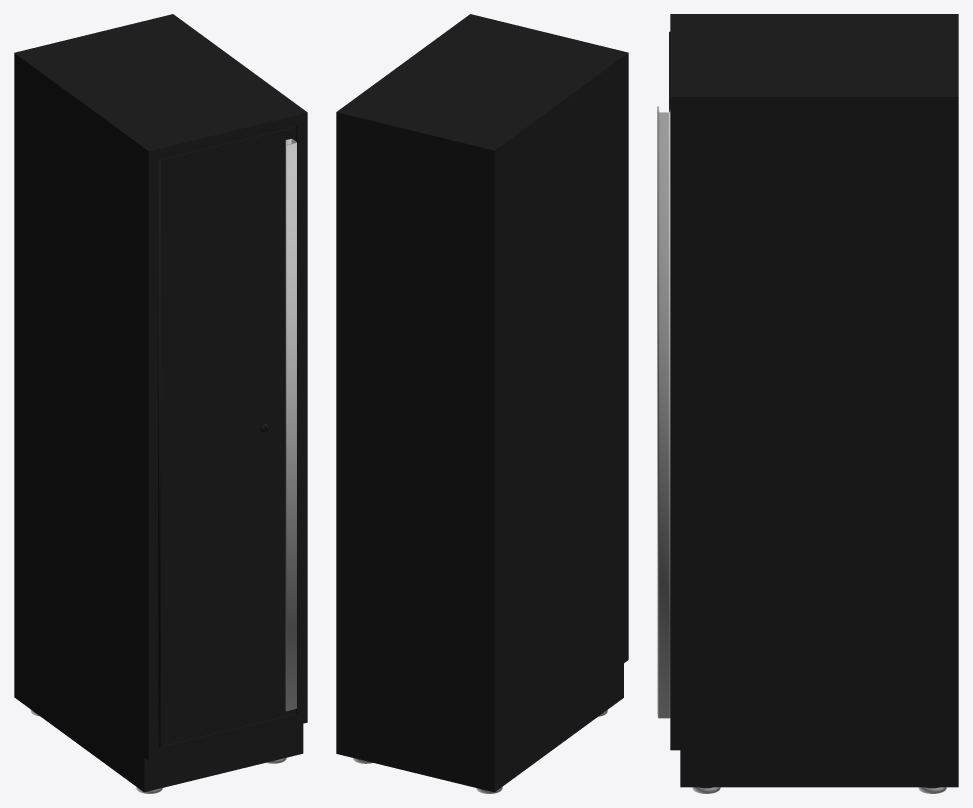
The model's file is pantryRightDoor.glb.
The picture shows the model from 3 angles, left to right: view 1: azimuth 30°, elevation 25°; view 2: azimuth 150°, elevation 25°; view 3: azimuth 270°, elevation 25°; orthographic projection. The views are drawn at different scales.
Visible parts, largest first — view 1: shellFp, doors, handlesFP, hinge; view 2: shellFp; view 3: shellFp, handlesFP.
Part boxes in pixels (x1=…): shellFp: x1=14, y1=14, x2=307, y2=792; doors: x1=159, y1=126, x2=296, y2=746; handlesFP: x1=285, y1=138, x2=296, y2=711; hinge: x1=158, y1=160, x2=160, y2=747; shellFp: x1=336, y1=14, x2=628, y2=792; shellFp: x1=670, y1=14, x2=958, y2=788; handlesFP: x1=657, y1=106, x2=670, y2=718.
Size of the model in its own units: 0.381 by 1.5 by 0.5842.
4 materials, 1 textured.
